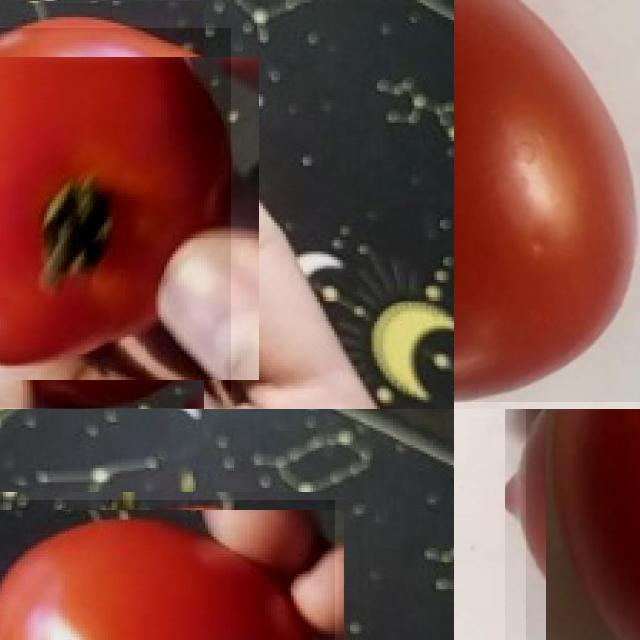Fresh Tomato: (0, 28, 231, 408), (454, 0, 640, 402), (0, 500, 335, 640), (525, 409, 640, 640)
